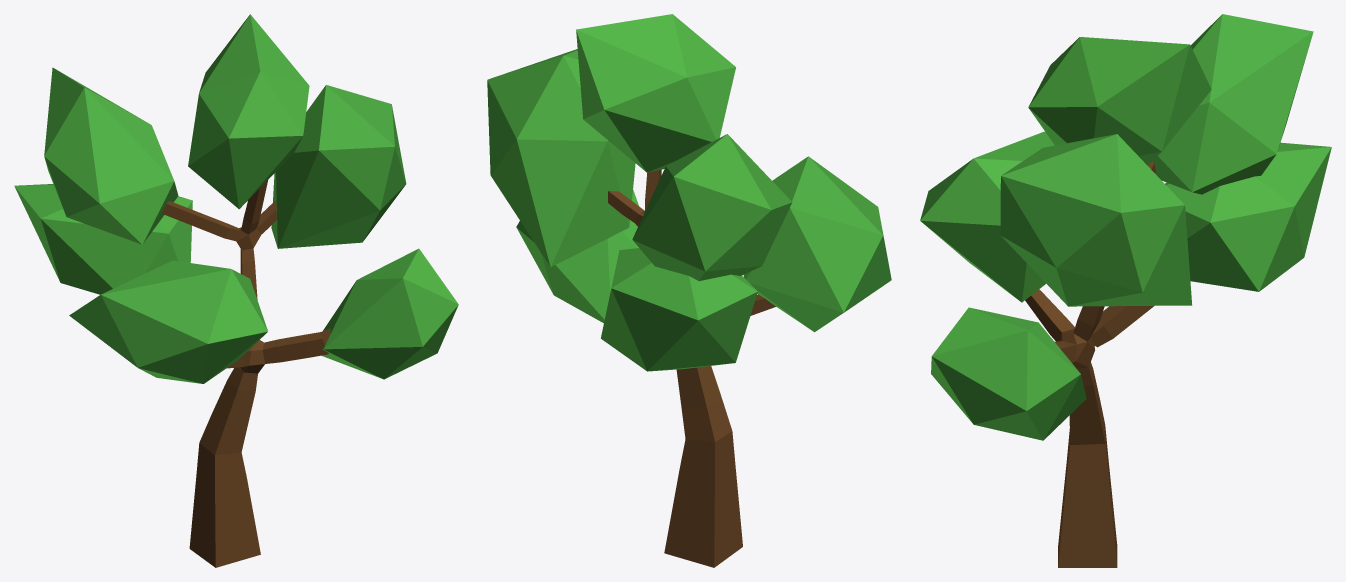
Rendered from gix_tree_1.glb.
3 views of the same model, side by side, from view 1: azimuth 30°, elevation 25°; view 2: azimuth 150°, elevation 25°; view 3: azimuth 270°, elevation 25° (orthographic). The views are drawn at different scales.
Parts seen in each view (by area): view 1: Icosphere.003, Icosphere.002, Icosphere.005, tronco, Icosphere.004, Icosphere.001, Icosphere; view 2: Icosphere.002, Icosphere.004, Icosphere.005, Icosphere.003, Icosphere, tronco, Icosphere.001; view 3: Icosphere.002, Icosphere.005, Icosphere.004, Icosphere, Icosphere.001, tronco, Icosphere.003.
Boxes of the visible parts, x1,y1,x2,y2 form: Icosphere.003: (69, 260, 267, 383); Icosphere.002: (271, 85, 406, 248); Icosphere.005: (44, 67, 178, 244); tronco: (162, 180, 330, 567); Icosphere.004: (188, 14, 309, 209); Icosphere.001: (322, 248, 458, 379); Icosphere: (14, 184, 192, 294); Icosphere.002: (487, 49, 635, 266); Icosphere.004: (576, 14, 735, 172); Icosphere.005: (632, 134, 792, 280); Icosphere.003: (743, 156, 891, 332); Icosphere: (601, 248, 757, 371); tronco: (608, 169, 775, 567); Icosphere.001: (516, 189, 638, 323); Icosphere.002: (1000, 134, 1192, 306); Icosphere.005: (1152, 14, 1313, 194); Icosphere.004: (1028, 37, 1211, 165); Icosphere: (1165, 142, 1331, 291); Icosphere.001: (931, 307, 1086, 440); tronco: (1025, 161, 1155, 567); Icosphere.003: (920, 131, 1054, 302).
Size of the model in its own units: 1.6 by 2.2 by 1.48.
